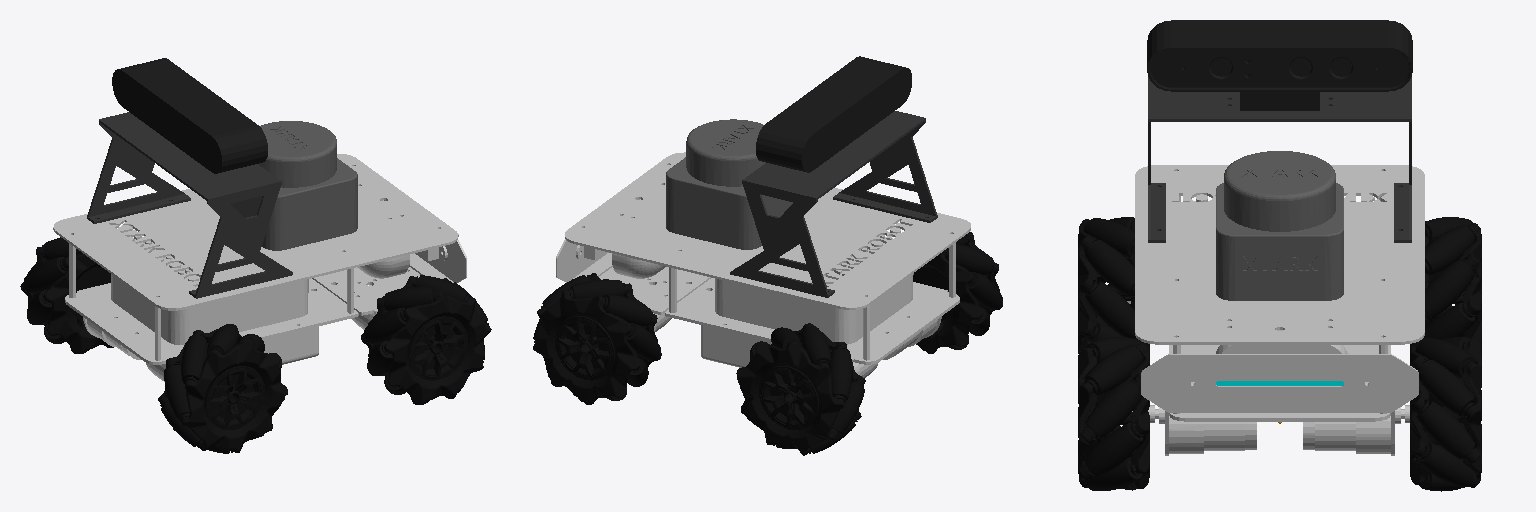
robot.urdf — tarkbot_robot:
<?xml version="1.0" encoding="utf-8"?>

<robot name="tarkbot_robot">

    <!-- 机器人底部中心原点 -->
    <link name="base_footprint">
        <visual>
            <geometry>
                <sphere radius="0.001" />
            </geometry>
        </visual>
    </link>

    <!-- 机器人底盘 -->
    <link name="base_link">
        <visual>
            <geometry>
                <mesh filename="package://tarkbot_description/meshes/base_r20_fwl.stl" />
            </geometry>
            <origin xyz="0 0 0" rpy="0 0 0" />
            <material name="base_color">
                <!-- <color rgba="0.000 0.500 0.500 1" /> -->
                <!-- <color rgba="0.000 0.000 1.000 1" /> -->
                <!-- <color rgba="1.000 0.500 0.000 1" /> -->
                <color rgba="0.800 0.800 0.800 1" />
            </material>
        </visual>
    </link>    

        <!-- 机器人轮子 -->
    <link name="wheel_fl">
        <visual>
            <geometry>
                <mesh filename="package://tarkbot_description/meshes/wheel/m100l.stl" />
            </geometry>
            <origin xyz="0 0 0" rpy="0 0 0" />
            <material name="wheel_color">
                <color rgba="0.1 0.1 0.1 1" />
            </material>
        </visual>
    </link>  

    <link name="wheel_fr">
        <visual>
            <geometry>
                <mesh filename="package://tarkbot_description/meshes/wheel/m100r.stl" />
            </geometry>
            <origin xyz="0 0 0" rpy="0 0 0" />
            <material name="wheel_color">
                <color rgba="0.1 0.1 0.1 1" />
            </material>
        </visual>
    </link>  

    <link name="wheel_bl">
        <visual>
            <geometry>
                <mesh filename="package://tarkbot_description/meshes/wheel/m100r.stl" />
            </geometry>
            <origin xyz="0 0 0" rpy="0 0 0" />
            <material name="wheel_color">
                <color rgba="0.1 0.1 0.1 1" />
            </material>
        </visual>
    </link>  

    <link name="wheel_br">
        <visual>
            <geometry>
                <mesh filename="package://tarkbot_description/meshes/wheel/m100l.stl" />
            </geometry>
            <origin xyz="0 0 0" rpy="0 0 0" />
            <material name="wheel_color">
                <color rgba="0.1 0.1 0.1 1" />
            </material>
        </visual>
    </link>  

    <!-- 机器人雷达 -->
    <link name="laser_link">
        <visual>
            <geometry>
                <mesh filename="package://tarkbot_description/meshes/laser.stl" />
            </geometry>
            <origin xyz="0 0 -0.06" rpy="0 0 0" />
            <material name="laser_color">
                <color rgba="0.4 0.4 0.4 1" />
            </material>
        </visual>
    </link> 

    <!-- 机器人摄像头支架 -->
    <link name="cameramount_link">
        <visual>
            <geometry>
                <mesh filename="package://tarkbot_description/meshes/mec_cam_mount.stl" />
            </geometry>
            <origin xyz="0 0 0" rpy="0 0 0" />
            <material name="cameramount_color">
                <color rgba="0.25 0.25 0.25 1" />
            </material>
        </visual>
    </link>  

    <!-- 机器人摄像头 -->
    <link name="camera_link">
        <visual>
            <geometry>
                <mesh filename="package://tarkbot_description/meshes/depthcamera.stl" />
            </geometry>
            <origin xyz="-0.037 0 0" rpy="0 0 0" />
            <material name="camera_color">
                <color rgba="0.15 0.15 0.15 1" />
            </material>
        </visual>
    </link>

    <!-- 机器人IMU传感器 -->
    <link name="imu_link">
        <visual>
            <geometry>
                <sphere radius="0.010" />
            </geometry>
            <origin xyz="0 0 0" rpy="0 0 0" />
            <material name="imu_color">
                <color rgba="1 1 0 1" />
            </material>
        </visual>
    </link>

    <!-- 机器人前灯 -->
    <link name="light_link">
        <visual>
            <geometry>
                <mesh filename="package://tarkbot_description/meshes/light.stl" />
            </geometry>
            <origin xyz="0 0 0" rpy="0 0 0" />
            <material name="light_color">
                <color rgba="0.0 1.0 1.0 1" />
            </material>
        </visual>
    </link>

    <!-- 底盘与原点连接的关节 -->
    <joint name="baselink2footprint" type="fixed">
        <origin xyz="0 0 0.1155" rpy="0 0 0"/>
        <parent link="base_footprint" />
        <child  link="base_link" />
    </joint>

        <!-- 轮子到与底盘连接的关节 -->
    <joint name="wheelfl2base" type="fixed">
        <origin xyz="0.088 0.096 -0.069" rpy="0 0 1.57"/>
        <parent link="base_link" />
        <child  link="wheel_fl" />
    </joint>

    <joint name="wheelfr2base" type="fixed">
        <origin xyz="0.088 -0.096 -0.069" rpy="0 0 -1.57"/>
        <parent link="base_link" />
        <child  link="wheel_fr" />
    </joint>

    <joint name="wheelbl2base" type="fixed">
        <origin xyz="-0.088 0.096 -0.069" rpy="0 0 1.57"/>
        <parent link="base_link" />
        <child  link="wheel_bl" />
    </joint>

    <joint name="wheelbr2base" type="fixed">
        <origin xyz="-0.088 -0.096 -0.069" rpy="0 0 -1.57"/>
        <parent link="base_link" />
        <child  link="wheel_br" />
    </joint>

    <!-- 雷达到与底盘连接的关节 -->
    <joint name="laser2base" type="fixed">
        <origin xyz="0.03 0 0.06" rpy="0 0 0"/>
        <parent link="base_link" />
        <child  link="laser_link" />
    </joint>

    <!-- 深度摄像头支架与底盘连接的关节 -->
    <joint name="cameramount2base" type="fixed">
        <origin xyz="-0.025 0 0" rpy="0 0 0"/>
        <parent link="base_link" />
        <child  link="cameramount_link" />
    </joint>

    <!-- 深度摄像头与底盘连接的关节 -->
    <joint name="camera2base" type="fixed">
        <origin xyz="-0.040 0 0.1085" rpy="0 0 0"/>
        <parent link="base_link" />
        <child  link="camera_link" />
    </joint>

    <!-- IMU传感器与底盘连接的关节 -->
    <joint name="imu2base" type="fixed">
        <origin xyz="0 0 0" rpy="0 0 0"/>
        <parent link="base_link" />
        <child  link="imu_link" />
    </joint>

    <!-- 前灯与底盘连接的关节 -->
    <joint name="light2base" type="fixed">
        <origin xyz="0.133 0 -0.027 " rpy="0 0 0"/>
        <parent link="base_link" />
        <child  link="light_link" />
    </joint>

</robot>

--- Render facts (derived) ---
The picture shows the robot from 3 angles, left to right: view 1: azimuth 30°, elevation 25°; view 2: azimuth 150°, elevation 25°; view 3: azimuth 270°, elevation 25°; orthographic projection.
Robot: tarkbot_robot — 11 links, 10 joints (10 fixed); root link base_footprint; default pose: every joint at zero.
Visible links, largest first — view 1: base_link, cameramount_link, wheel_br, wheel_fr, laser_link, camera_link, wheel_bl; view 2: base_link, cameramount_link, wheel_bl, wheel_fl, laser_link, camera_link, wheel_br; view 3: base_link, camera_link, laser_link, wheel_fr, wheel_fl, cameramount_link, wheel_br, wheel_bl, light_link.
Link boxes in pixels (x1=…): base_link: x1=53, y1=154, x2=466, y2=381; cameramount_link: x1=87, y1=112, x2=292, y2=298; wheel_br: x1=158, y1=324, x2=287, y2=453; wheel_fr: x1=361, y1=275, x2=491, y2=404; laser_link: x1=231, y1=121, x2=357, y2=250; camera_link: x1=112, y1=58, x2=267, y2=173; wheel_bl: x1=20, y1=237, x2=113, y2=353; base_link: x1=556, y1=152, x2=970, y2=377; cameramount_link: x1=730, y1=111, x2=937, y2=297; wheel_bl: x1=736, y1=323, x2=865, y2=455; wheel_fl: x1=533, y1=273, x2=661, y2=404; laser_link: x1=666, y1=119, x2=792, y2=249; camera_link: x1=756, y1=56, x2=911, y2=172; wheel_br: x1=913, y1=232, x2=1002, y2=353; base_link: x1=1127, y1=165, x2=1424, y2=455; camera_link: x1=1147, y1=20, x2=1412, y2=110; laser_link: x1=1216, y1=151, x2=1343, y2=300; wheel_fr: x1=1078, y1=337, x2=1149, y2=490; wheel_fl: x1=1410, y1=337, x2=1481, y2=491; cameramount_link: x1=1148, y1=77, x2=1411, y2=242; wheel_br: x1=1078, y1=217, x2=1149, y2=353; wheel_bl: x1=1410, y1=217, x2=1481, y2=353; light_link: x1=1216, y1=381, x2=1343, y2=385.
Bounding box of the posed robot: 0.2719 × 0.2507 × 0.2405 m (x, y, z).
Meshes: 7 distinct files referenced, 9 mesh visuals loaded (7 binary STL).